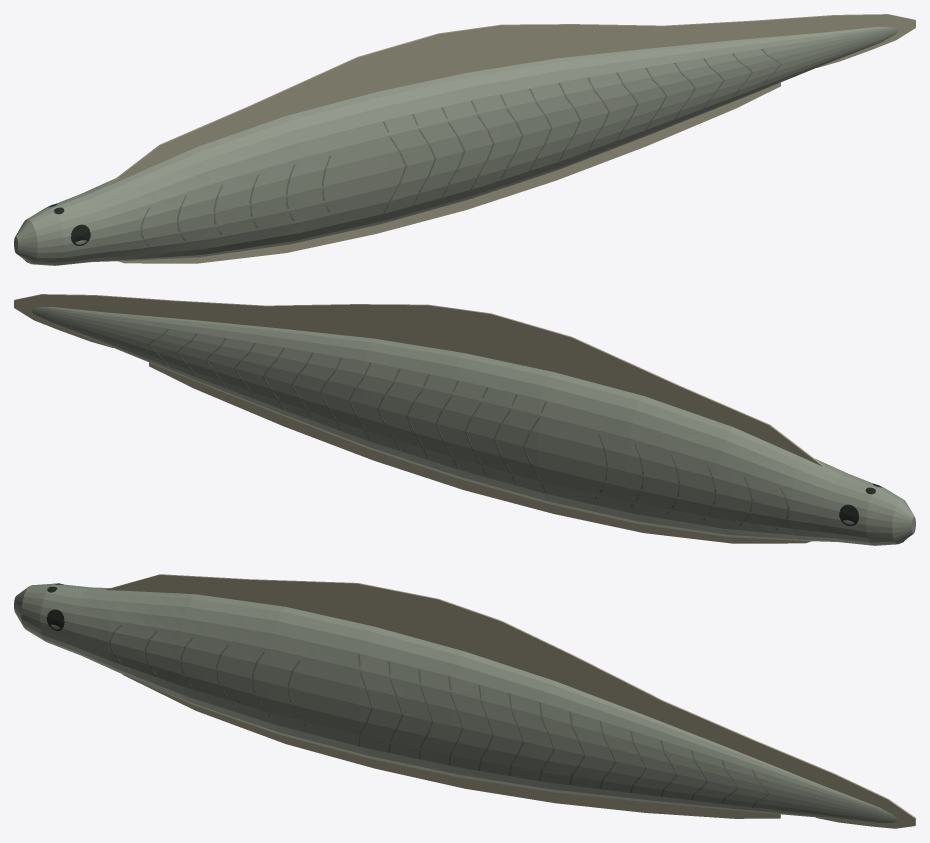
3 renders of one model, top to bottom at view 1: azimuth 30°, elevation 25°; view 2: azimuth 150°, elevation 25°; view 3: azimuth 330°, elevation 25°, orthographic.
Visible parts, largest first — view 1: Jawless_soft_body_original_section, Single_median_dorsal_to_simple_caudal_fold, Single_shallow_ventral_fold_interrupted_posteriorly, Shallow_branchial_and_chevron_surface_cues_not_counts; view 2: Jawless_soft_body_original_section, Single_median_dorsal_to_simple_caudal_fold, Single_shallow_ventral_fold_interrupted_posteriorly, Shallow_branchial_and_chevron_surface_cues_not_counts; view 3: Jawless_soft_body_original_section, Single_median_dorsal_to_simple_caudal_fold, Single_shallow_ventral_fold_interrupted_posteriorly, Shallow_branchial_and_chevron_surface_cues_not_counts.
Part boxes in pixels (bbox=[...]): Jawless_soft_body_original_section: bbox=[14, 26, 897, 265]; Single_median_dorsal_to_simple_caudal_fold: bbox=[105, 14, 915, 186]; Single_shallow_ventral_fold_interrupted_posteriorly: bbox=[119, 82, 780, 263]; Shallow_branchial_and_chevron_surface_cues_not_counts: bbox=[140, 48, 781, 249]; Jawless_soft_body_original_section: bbox=[32, 306, 915, 545]; Single_median_dorsal_to_simple_caudal_fold: bbox=[14, 294, 824, 466]; Single_shallow_ventral_fold_interrupted_posteriorly: bbox=[149, 362, 810, 543]; Shallow_branchial_and_chevron_surface_cues_not_counts: bbox=[148, 328, 789, 529]; Jawless_soft_body_original_section: bbox=[14, 583, 896, 823]; Single_median_dorsal_to_simple_caudal_fold: bbox=[106, 574, 915, 828]; Single_shallow_ventral_fold_interrupted_posteriorly: bbox=[122, 674, 780, 818]; Shallow_branchial_and_chevron_surface_cues_not_counts: bbox=[109, 625, 769, 807].
Size of the model in its own units: 0.025 by 0.0049 by 0.00165.
